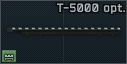Orsis T-5000M scope mount: (0, 0, 127, 64)
